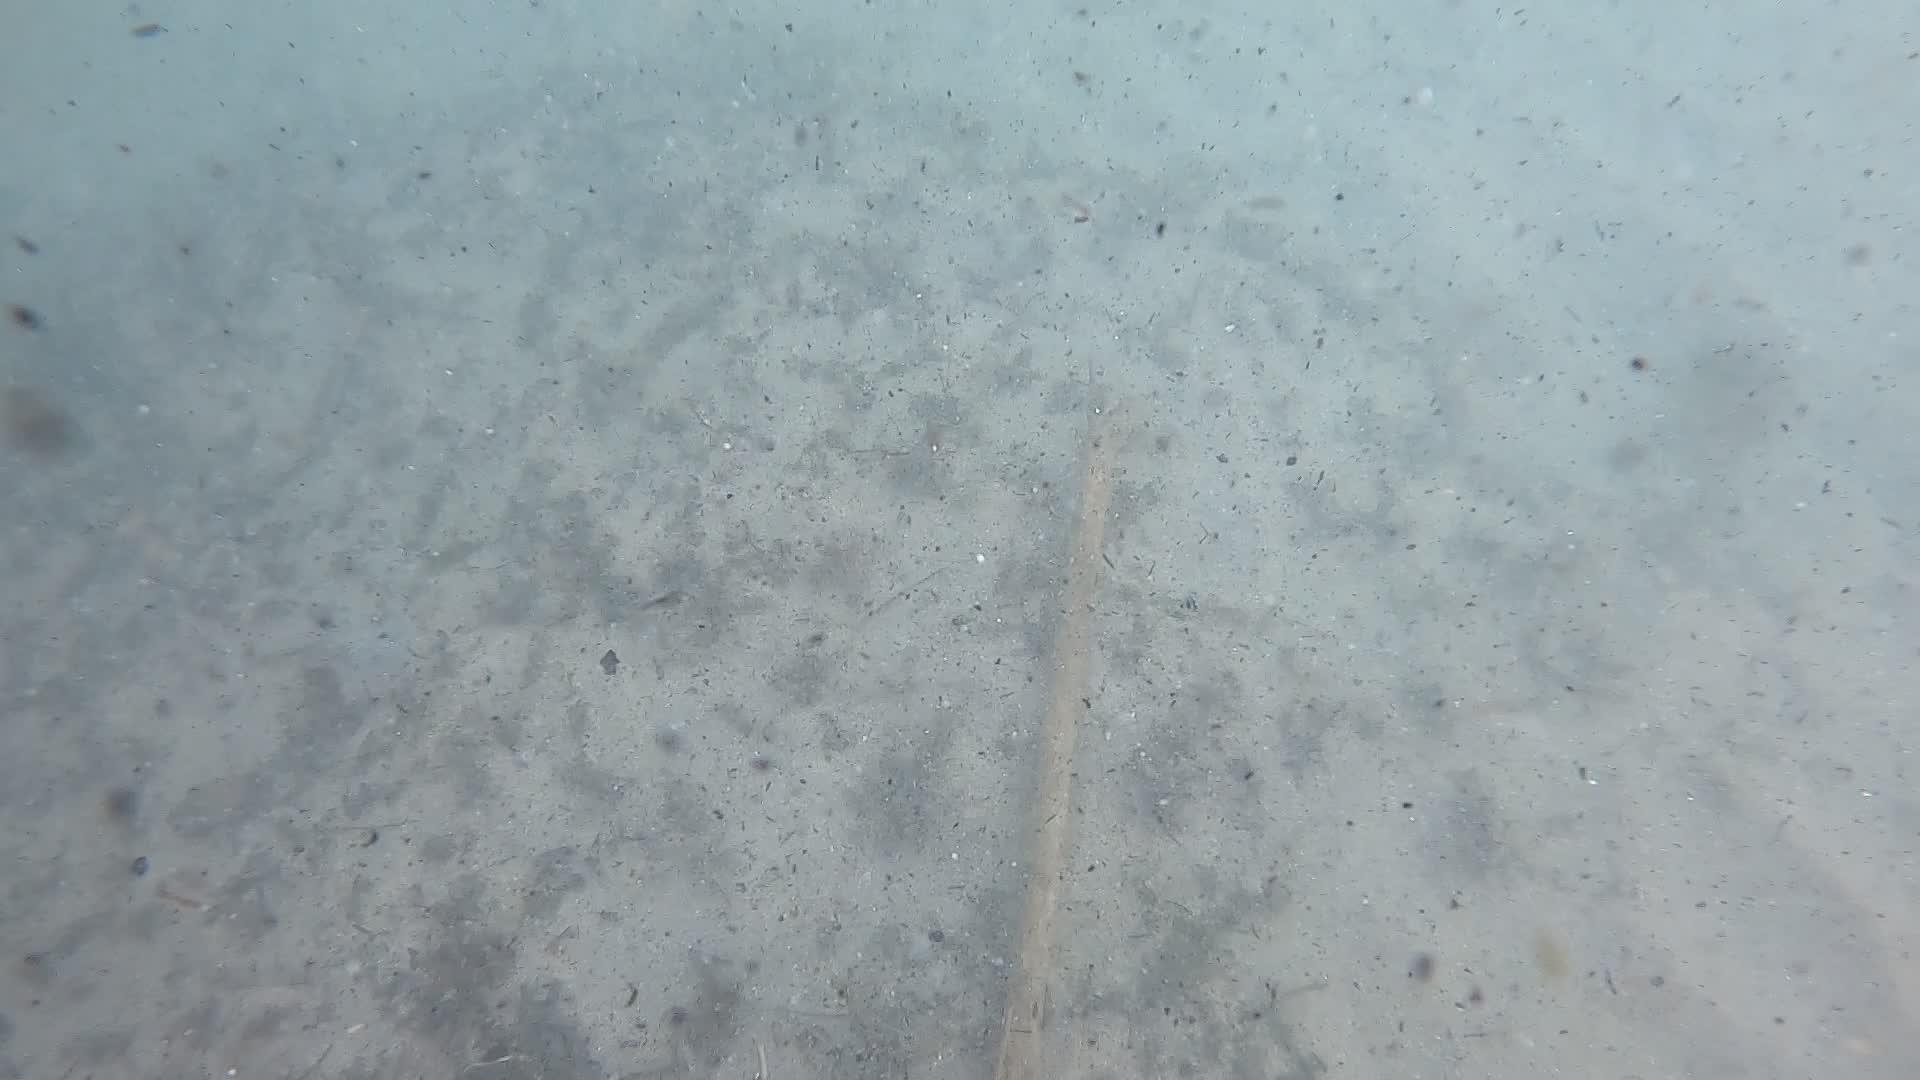wood: (986, 355, 1130, 1080)
